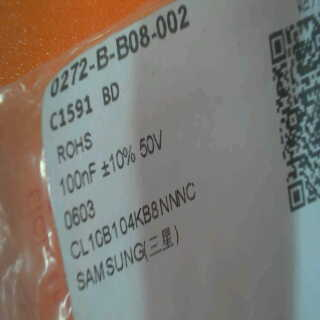100nF: (51, 160, 100, 197)
